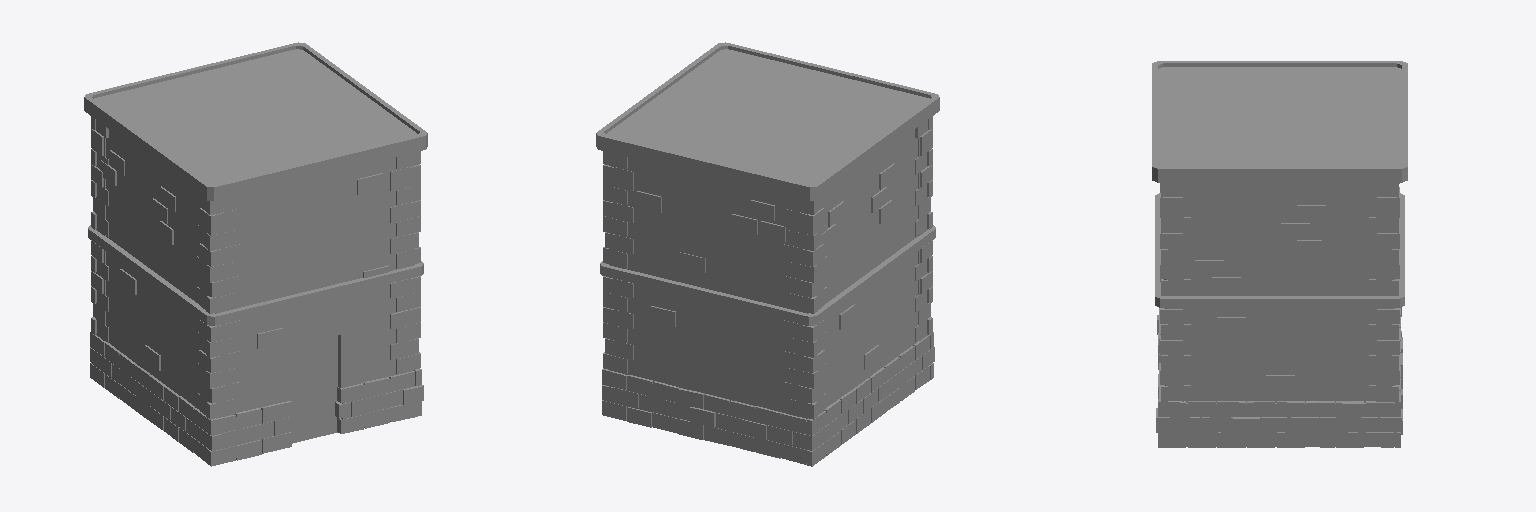
Rendered from 2Story_Sign_Base.obj.
3 renders of one model, left to right at view 1: azimuth 30°, elevation 25°; view 2: azimuth 150°, elevation 25°; view 3: azimuth 270°, elevation 25°, orthographic.
Visible parts, largest first — view 1: 2Story_Sign_Base_Cube.048; view 2: 2Story_Sign_Base_Cube.048; view 3: 2Story_Sign_Base_Cube.048.
Part boxes in pixels (x1,y1,x2,y2): 2Story_Sign_Base_Cube.048: (84, 42, 427, 466); 2Story_Sign_Base_Cube.048: (596, 42, 939, 466); 2Story_Sign_Base_Cube.048: (1152, 61, 1407, 447).
Bounding box in the file's own units: 2.15 × 2.62 × 2.15.